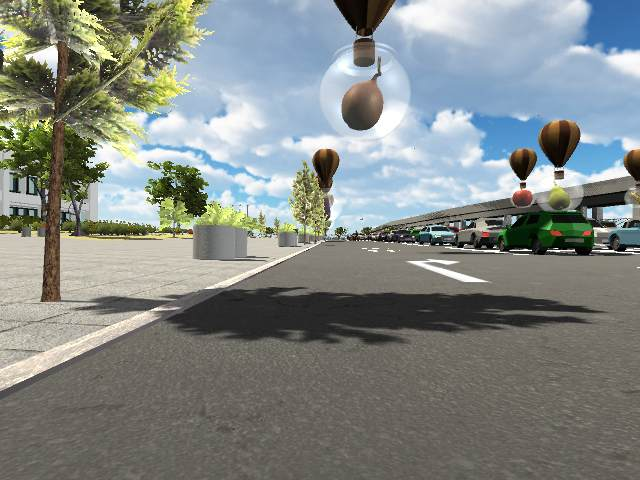ground_right: (406, 256, 464, 266)
